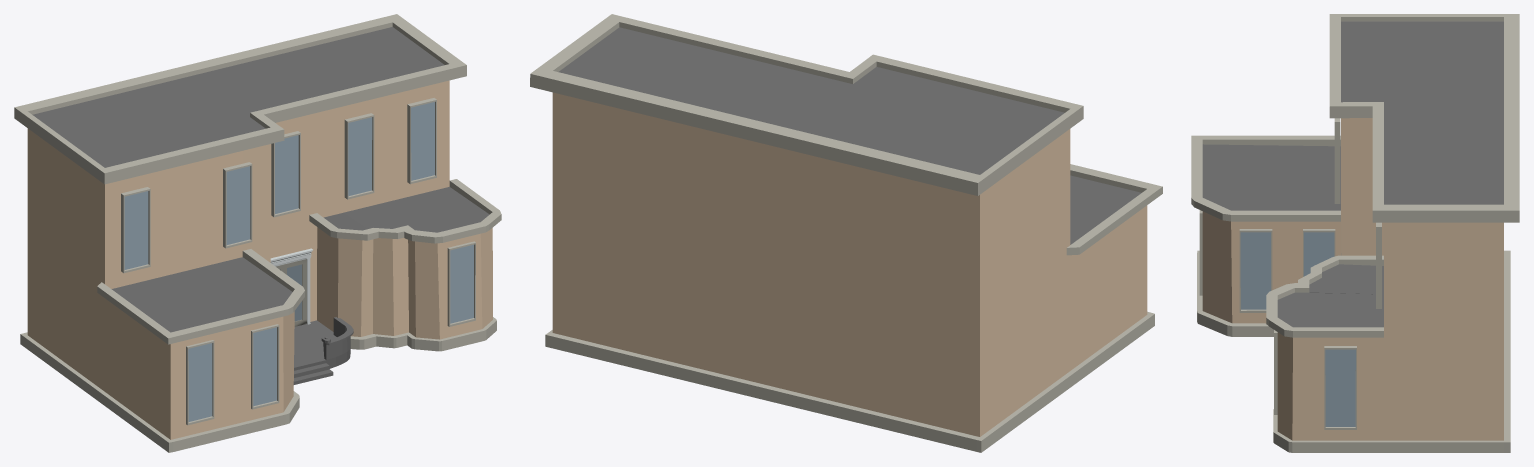
Rendered from House_Large.fbx.
3 views of the same model, side by side, from view 1: azimuth 30°, elevation 25°; view 2: azimuth 150°, elevation 25°; view 3: azimuth 270°, elevation 25° (orthographic). The views are drawn at different scales.
Visible parts, largest first — view 1: New House, Window Normal.009, Window Normal.006, Window Normal.007, Window Normal.010, Window Normal.008, Window Normal.001, Window Normal.003, Window Normal.002, Door.001; view 2: New House; view 3: New House, Window Normal.011, Window Normal.004, Window Normal.005, Window Normal.006, Window Normal.010, Window Normal.003, Window Normal.001.
Boxes of the visible parts, x1,y1,x2,y2 form: New House: (14,14,501,452); Window Normal.009: (344,113,374,199); Window Normal.006: (223,162,252,248); Window Normal.007: (121,187,150,273); Window Normal.010: (407,98,436,184); Window Normal.008: (271,131,300,217); Window Normal.001: (447,241,475,326); Window Normal.003: (251,324,279,409); Window Normal.002: (186,340,214,425); Door.001: (270,248,312,326); New House: (530,14,1162,452); New House: (1191,14,1519,452); Window Normal.011: (1324,346,1356,429); Window Normal.004: (1239,229,1272,312); Window Normal.005: (1303,229,1335,276); Window Normal.006: (1334,118,1340,203); Window Normal.010: (1376,222,1381,308); Window Normal.003: (1199,210,1202,295); Window Normal.001: (1274,330,1277,414).
Size of the model in its own units: 2167 by 1261 by 1520.
